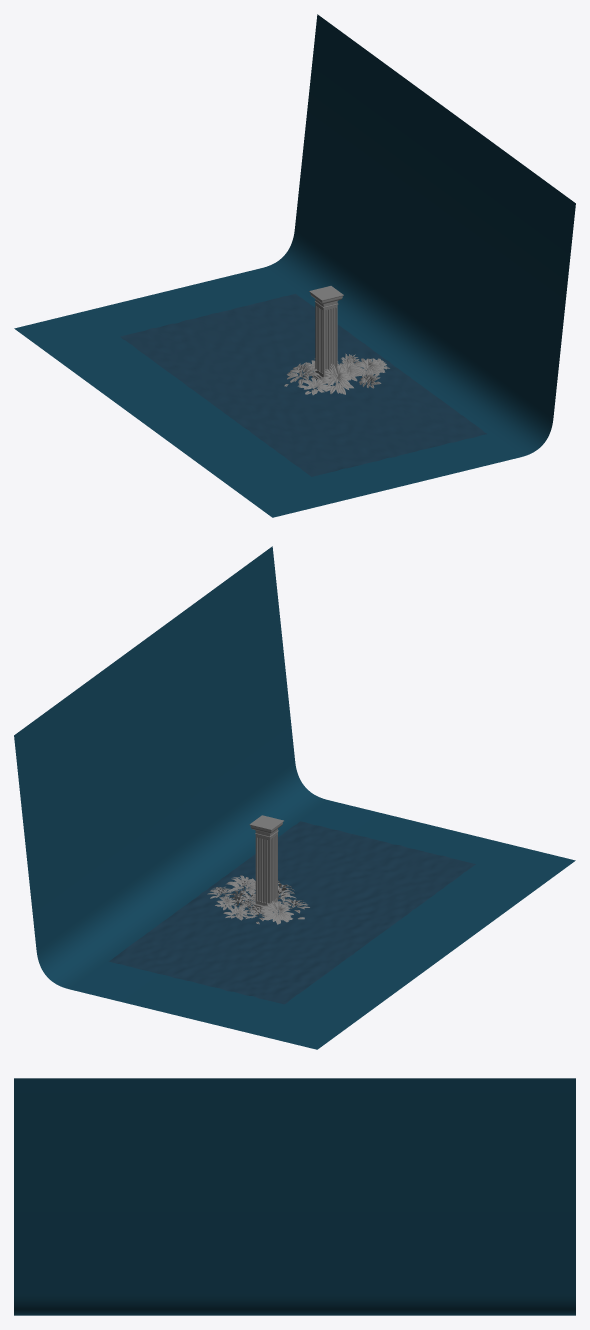
3 views of the same model, one above another, from view 1: azimuth 30°, elevation 25°; view 2: azimuth 150°, elevation 25°; view 3: azimuth 270°, elevation 25° (orthographic). The views are drawn at different scales.
Visible parts, largest first — view 1: Plane001, Plane2335, column_type_6_, Plane107; view 2: Plane001, Plane2335, column_type_6_; view 3: Plane001.
Part boxes in pixels (x1,y1,x2,y2): Plane001: (14,14,575,517); Plane2335: (120,293,486,476); column_type_6_: (309,286,343,383); Plane107: (319,363,353,394); Plane001: (14,546,575,1049); Plane2335: (109,821,475,1004); column_type_6_: (249,815,283,911); Plane001: (14,1078,575,1315).
Bounding box in the file's own units: 243 × 197 × 359.
